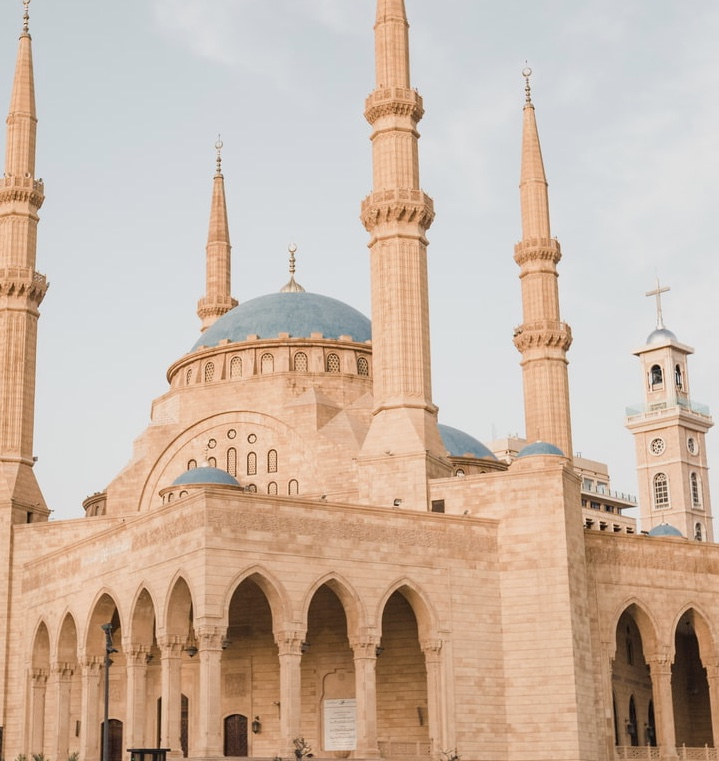Mosque: (4, 2, 709, 729)
